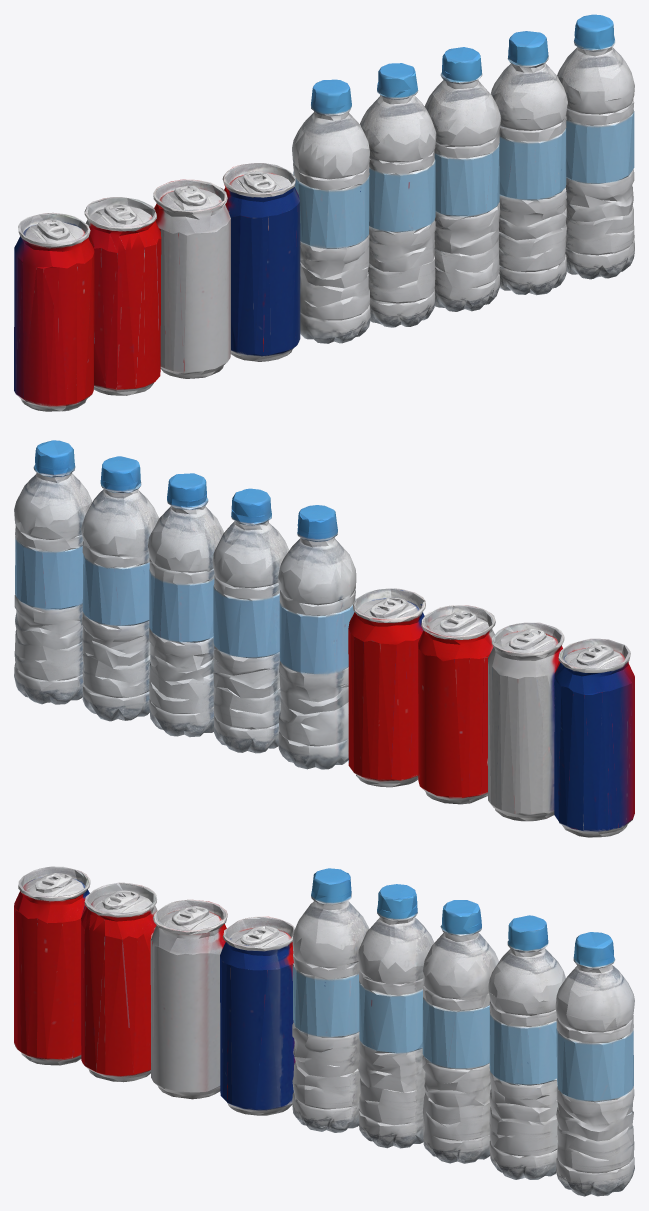
Rendered from remeshed-drinks.glb.
The picture shows the model from 3 angles, top to bottom: view 1: azimuth 30°, elevation 25°; view 2: azimuth 150°, elevation 25°; view 3: azimuth 330°, elevation 25°; orthographic projection.
Parts seen in each view (by area): view 1: output_unwrapped; view 2: output_unwrapped; view 3: output_unwrapped.
Boxes of the visible parts, bbox=[...] form: output_unwrapped: bbox=[14, 14, 634, 411]; output_unwrapped: bbox=[14, 440, 634, 837]; output_unwrapped: bbox=[14, 866, 634, 1196].
Size of the model in its own units: 1.9 by 0.7336 by 0.218.
1 material, 1 textured.
